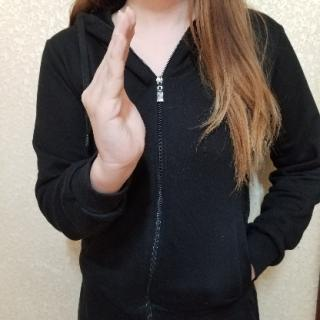HAA: (75, 6, 160, 179)
